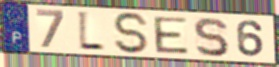6: (235, 19, 266, 59)
7: (34, 8, 68, 50)
E: (151, 15, 191, 55)
L: (76, 9, 106, 53)
S: (111, 11, 152, 56), (191, 16, 231, 58)
